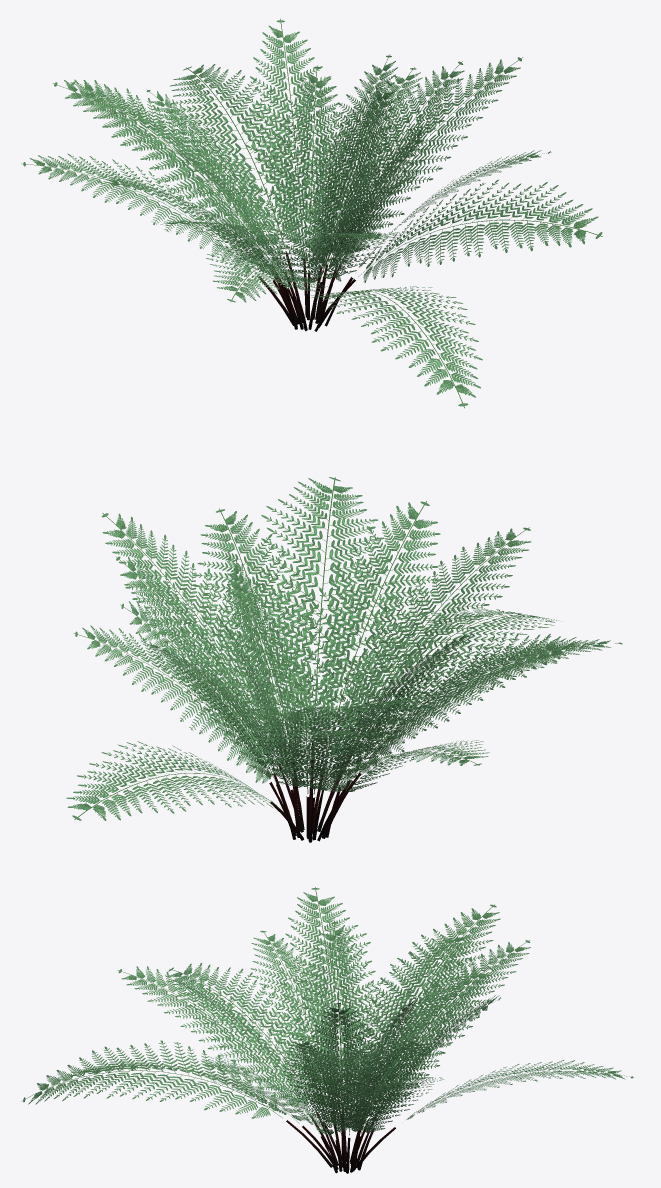
Rendered from lady_fern_v02.glb.
3 views of the same model, one above another, from view 1: azimuth 30°, elevation 25°; view 2: azimuth 150°, elevation 25°; view 3: azimuth 270°, elevation 25° (orthographic). The views are drawn at different scales.
Visible parts, largest first — view 1: lady_fern_v02; view 2: lady_fern_v02; view 3: lady_fern_v02.
Boxes of the visible parts, box(x1,y1,x2,y2) form: lady_fern_v02: box(21, 18, 602, 408); lady_fern_v02: box(66, 477, 622, 842); lady_fern_v02: box(21, 887, 633, 1173).
Bounding box in the file's own units: 1.02 × 0.5049 × 1.4.
Materials: 2 (2 with a texture image).
